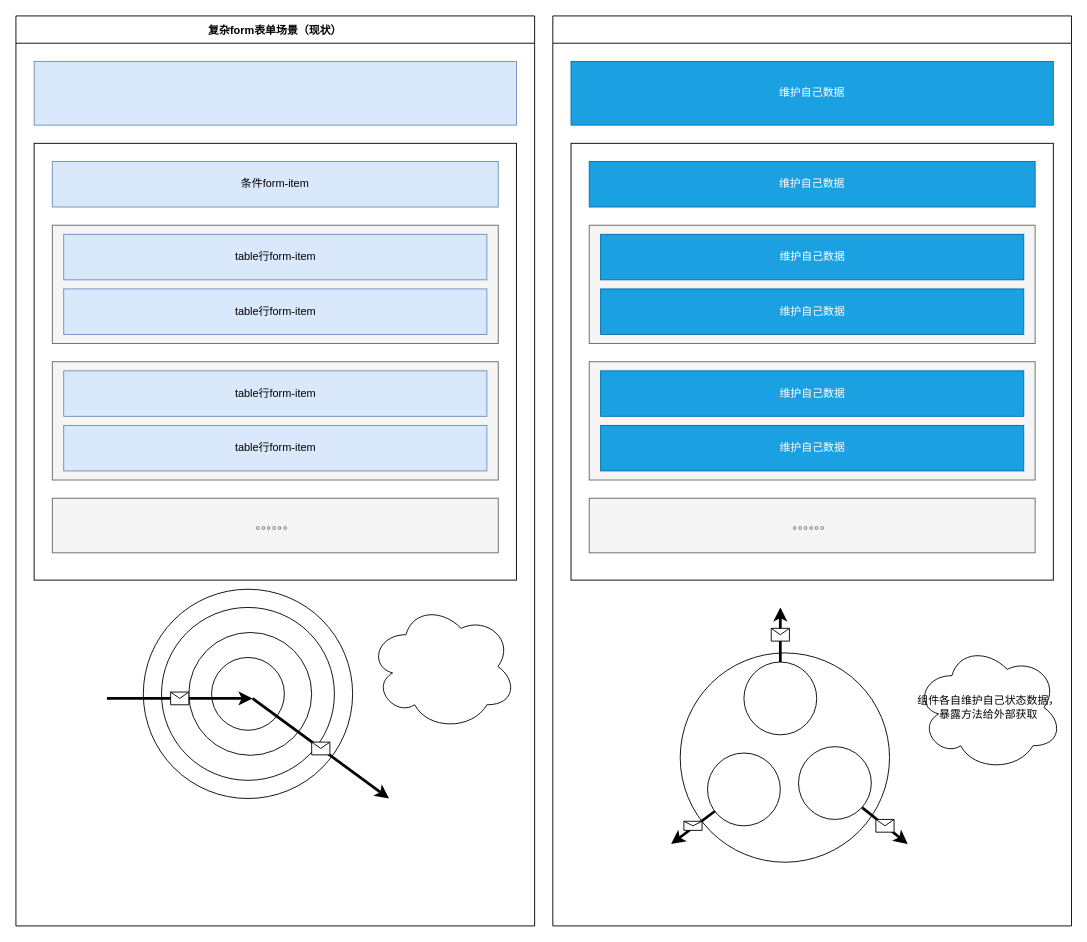
Image size: 1087x942. Some labels were removed from this diagram. The box of each missing label's shape, as (x1, y1, x2, y2) in pixels:
基础form-item: (33, 61, 516, 125)
复杂form表单场景（改进）: (552, 15, 1072, 926)
通信通过最外层form大对象保存整体数据: (368, 602, 516, 730)
